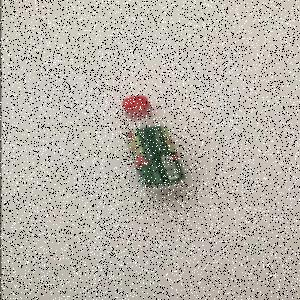Plastic-bottle: (121, 96, 190, 199)
